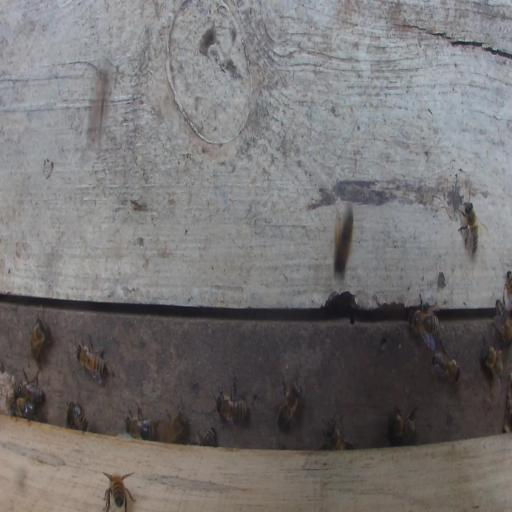nonpollenbee: (277, 386, 300, 434), (77, 346, 107, 382), (217, 395, 248, 425), (104, 469, 127, 509), (495, 297, 512, 347), (463, 201, 479, 253), (433, 352, 461, 381), (481, 346, 504, 379), (15, 380, 43, 406), (388, 414, 416, 440), (326, 420, 350, 450), (67, 404, 91, 433), (166, 410, 187, 443), (125, 416, 157, 437), (409, 311, 439, 333), (9, 396, 35, 419), (30, 320, 44, 361), (198, 428, 215, 447), (506, 270, 512, 298)
pollenbee: (329, 194, 356, 280)
